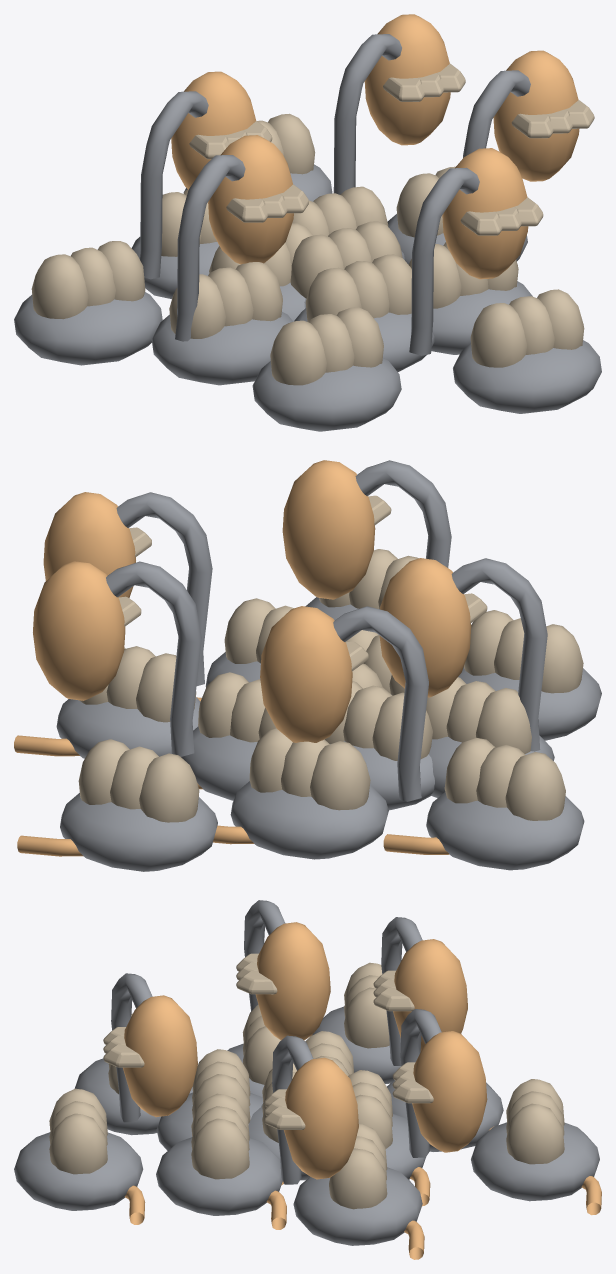
Rendered from bio_acid_mat_13_far.glb.
The picture shows the model from 3 angles, top to bottom: view 1: azimuth 30°, elevation 25°; view 2: azimuth 150°, elevation 25°; view 3: azimuth 270°, elevation 25°; orthographic projection. The views are drawn at different scales.
Visible parts, largest first — view 1: Microbial cushion.010, Microbial cushion.007, Microbial cushion.009, Pendant spore capsule.002, Pendant spore capsule.003, Pendant spore capsule.004, Pendant spore capsule, Reaction vesicle.030, Reaction vesicle.027, Reaction vesicle.021, Microbial cushion.004, Reaction vesicle.012 (+25 smaller); view 2: Pendant spore capsule.002, Pendant spore capsule.003, Pendant spore capsule.001, Microbial cushion.009, Microbial cushion.011, Microbial cushion.006, Pendant spore capsule.004, Reaction vesicle.027, Reaction vesicle.033, Reaction vesicle.018, Arched fruit stem.001, Arched fruit stem.003 (+22 smaller); view 3: Pendant spore capsule.002, Pendant spore capsule, Pendant spore capsule.003, Pendant spore capsule.004, Microbial cushion.010, Microbial cushion.011, Microbial cushion.005, Microbial cushion.008, Pendant spore capsule.001, Reaction vesicle.030, Reaction vesicle.015, Reaction vesicle.033 (+28 smaller).
Boxes of the visible parts, x1,y1,x2,y2 form: Microbial cushion.010: (453, 340, 601, 413); Microbial cushion.007: (252, 358, 401, 431); Microbial cushion.009: (14, 292, 162, 365); Pendant spore capsule.002: (442, 148, 528, 279); Pendant spore capsule.003: (364, 14, 450, 145); Pendant spore capsule.004: (208, 135, 293, 264); Pendant spore capsule: (493, 50, 579, 181); Reaction vesicle.030: (470, 289, 584, 367); Reaction vesicle.027: (31, 241, 145, 319); Reaction vesicle.021: (270, 307, 383, 385); Microbial cushion.004: (151, 312, 293, 385); Reaction vesicle.012: (169, 262, 282, 338); Pendant spore capsule.002: (282, 460, 375, 599); Pendant spore capsule.003: (33, 561, 125, 700); Pendant spore capsule.001: (260, 606, 352, 742); Microbial cushion.009: (426, 792, 584, 870); Microbial cushion.011: (60, 793, 217, 871); Microbial cushion.006: (230, 781, 388, 859); Pendant spore capsule.004: (379, 558, 471, 697); Reaction vesicle.027: (444, 738, 565, 820); Reaction vesicle.033: (78, 739, 199, 822); Reaction vesicle.018: (249, 728, 370, 810); Arched fruit stem.001: (333, 606, 428, 801); Arched fruit stem.003: (106, 561, 201, 756); Pendant spore capsule.002: (123, 995, 197, 1117); Pendant spore capsule: (284, 1057, 358, 1179); Pendant spore capsule.003: (412, 1031, 487, 1152); Pendant spore capsule.004: (255, 922, 330, 1040); Microbial cushion.010: (14, 1132, 143, 1210); Microbial cushion.011: (471, 1122, 599, 1201); Microbial cushion.005: (156, 1137, 282, 1215); Microbial cushion.008: (293, 1167, 422, 1245); Pendant spore capsule.001: (393, 939, 467, 1051); Reaction vesicle.030: (49, 1088, 107, 1174); Reaction vesicle.015: (191, 1093, 249, 1179); Reaction vesicle.033: (506, 1079, 564, 1164).
Size of the model in its own units: 1.9 by 0.7658 by 2.
